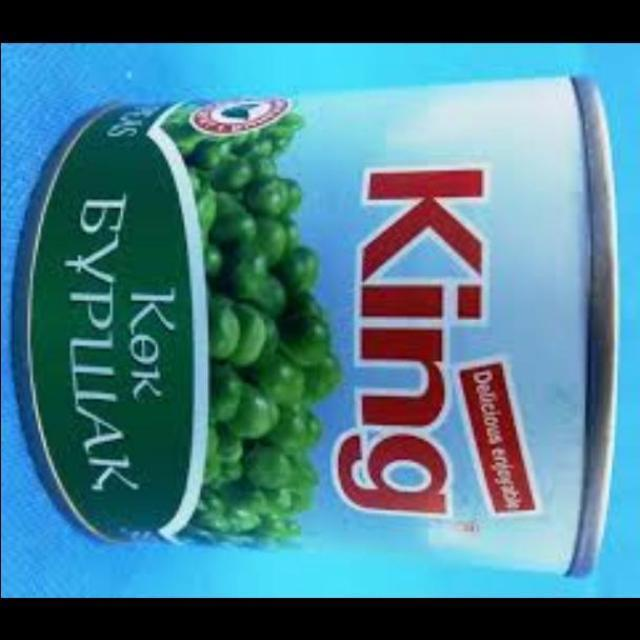peas: (172, 111, 334, 569)
